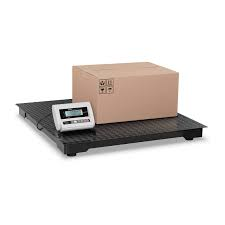Industrial Scale: (16, 99, 211, 158)
